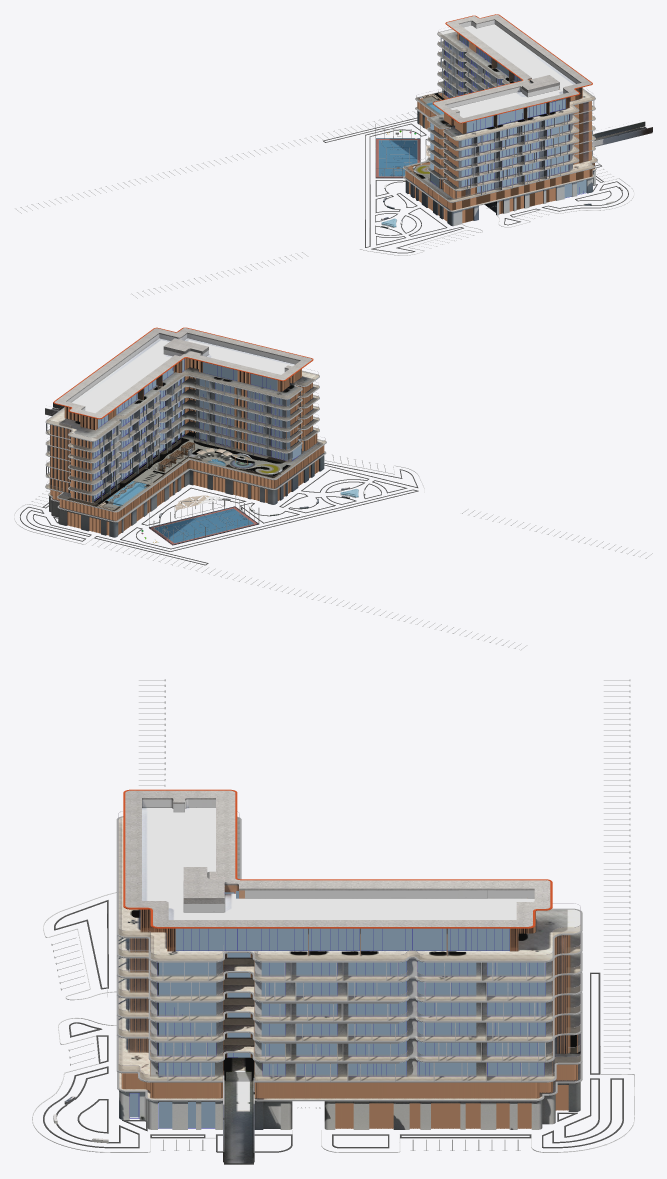
Rendered from MAG_11_build_A.glb.
3 views of the same model, one above another, from view 1: azimuth 30°, elevation 25°; view 2: azimuth 150°, elevation 25°; view 3: azimuth 270°, elevation 25° (orthographic). The views are drawn at different scales.
Parts seen in each view (by area): view 1: A_Build; view 2: A_Build; view 3: A_Build.
Boxes of the visible parts, left/top/right/bottom form: A_Build: left=15, top=14, right=652, bottom=298; A_Build: left=14, top=327, right=652, bottom=650; A_Build: left=32, top=679, right=634, bottom=1164.
Bounding box in the file's own units: 236 × 43.05 × 115.
24 materials, 3 textured.
